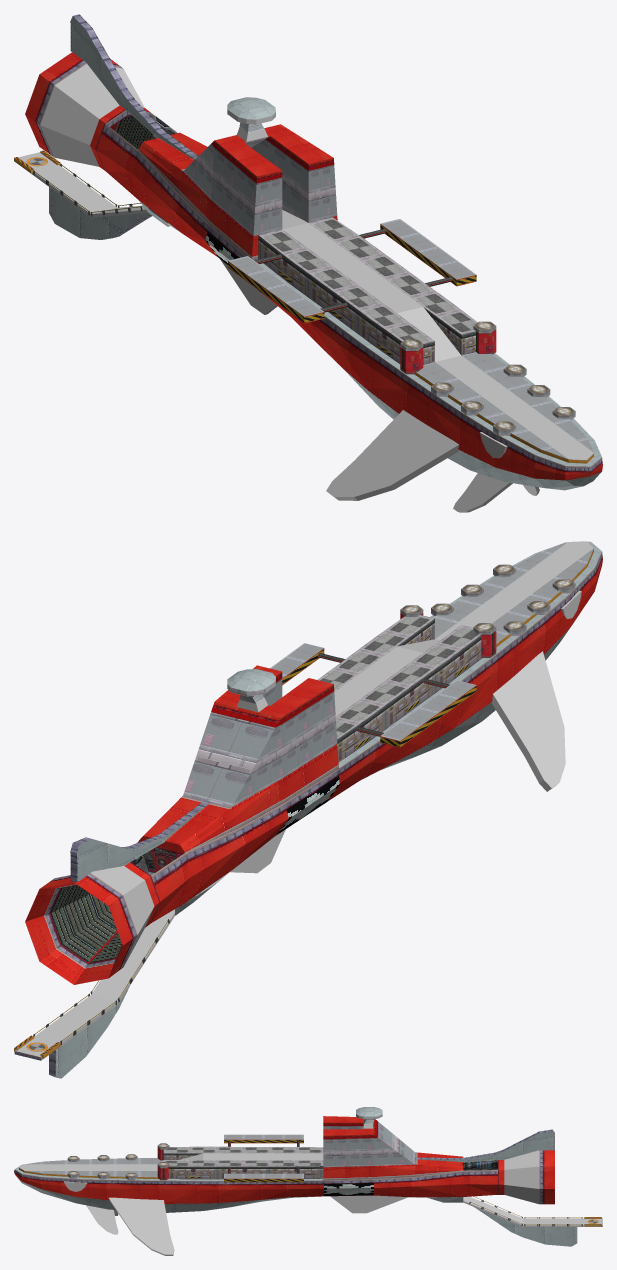
The model's file is 2PEgg_fleet3.obj.
3 renders of one model, top to bottom at view 1: azimuth 30°, elevation 25°; view 2: azimuth 150°, elevation 25°; view 3: azimuth 270°, elevation 25°, orthographic. The views are drawn at different scales.
Parts seen in each view (by area): view 1: obj2, obj3; view 2: obj2, obj3, obj1; view 3: obj2, obj3, obj1.
Part boxes in pixels (x1=…): obj2: x1=25, y1=14, x2=602, y2=512; obj3: x1=14, y1=150, x2=601, y2=500; obj2: x1=25, y1=549, x2=602, y2=1078; obj3: x1=14, y1=541, x2=601, y2=1060; obj1: x1=276, y1=776, x2=339, y2=835; obj2: x1=14, y1=1107, x2=582, y2=1246; obj3: x1=15, y1=1134, x2=602, y2=1255; obj1: x1=324, y1=1183, x2=373, y2=1196.
Bounding box in the file's own units: 682 × 754 × 2949.
